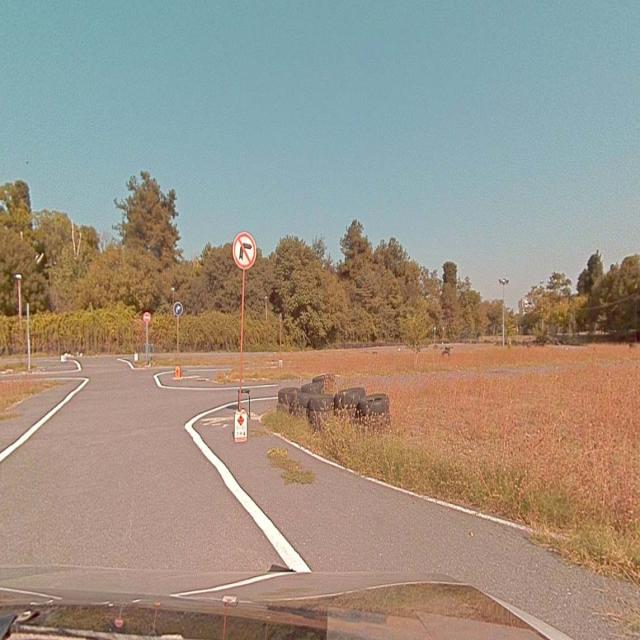girisyok: (144, 313, 150, 322)
sag: (173, 302, 183, 316)
sagadonulmez: (233, 232, 256, 269)
